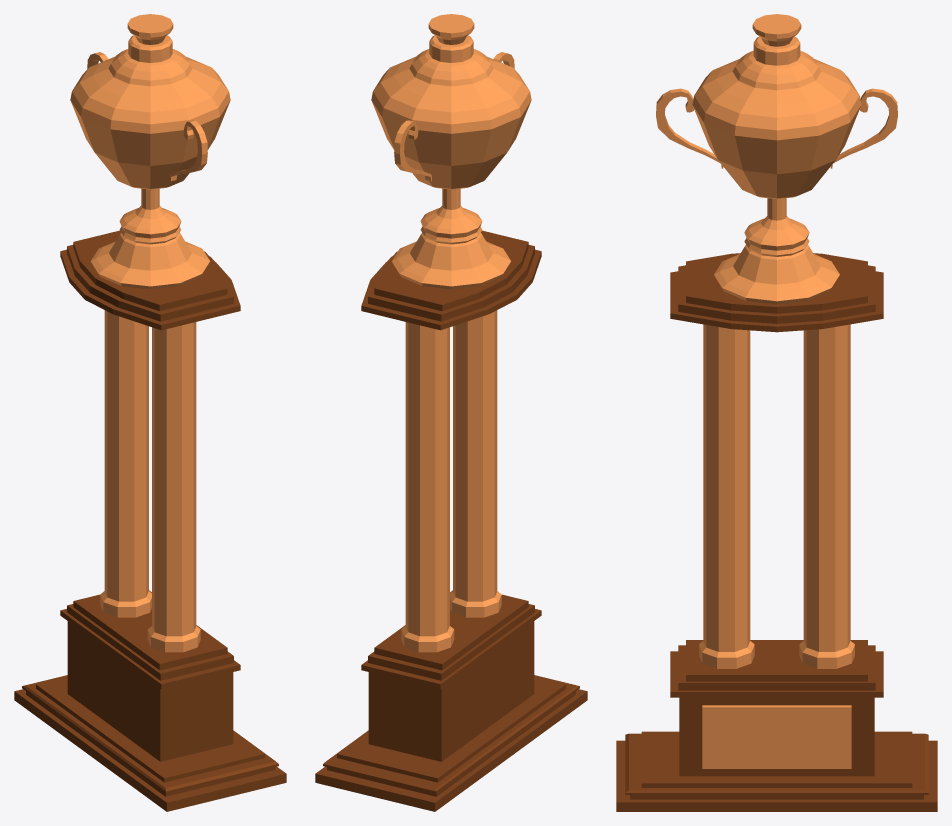
File: SM_Cup_01.glb
3 renders of one model, left to right at view 1: azimuth 30°, elevation 25°; view 2: azimuth 150°, elevation 25°; view 3: azimuth 270°, elevation 25°, orthographic. The views are drawn at different scales.
Visible parts, largest first — view 1: SM_Cup_01; view 2: SM_Cup_01; view 3: SM_Cup_01.
Boxes of the visible parts, x1,y1,x2,y2 form: SM_Cup_01: (14, 14, 286, 811); SM_Cup_01: (315, 14, 587, 811); SM_Cup_01: (616, 14, 937, 811).
Bounding box in the file's own units: 0.2019 × 0.9971 × 0.3839.
Materials: 1 (1 with a texture image).
